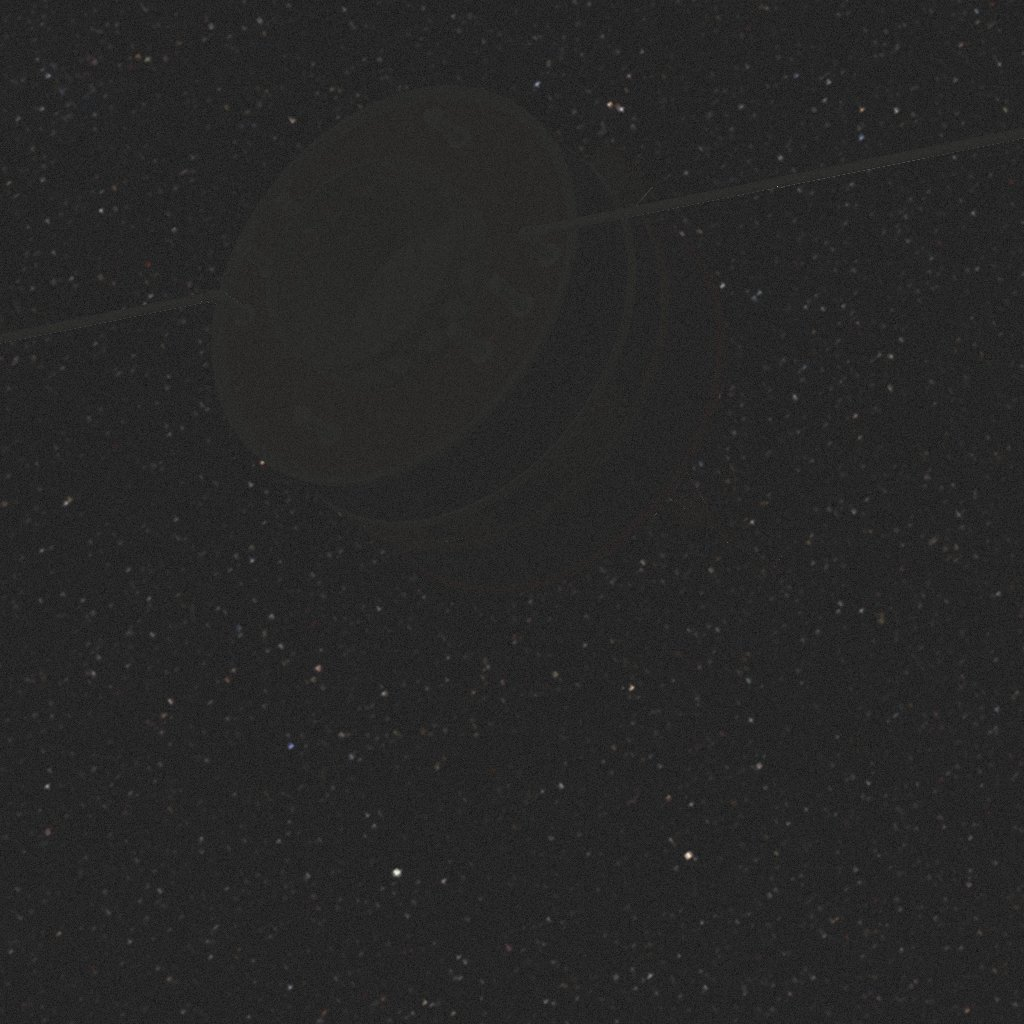double_star: (13, 63, 984, 717)
